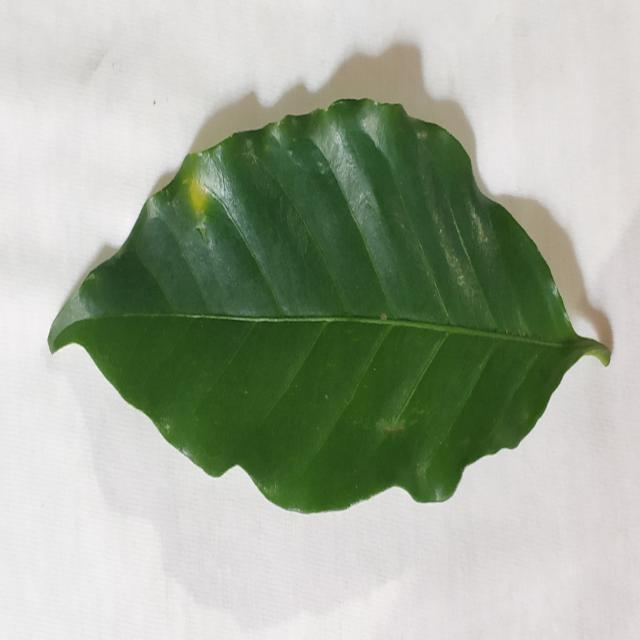Enfermedad-Roya: (47, 97, 612, 517)
